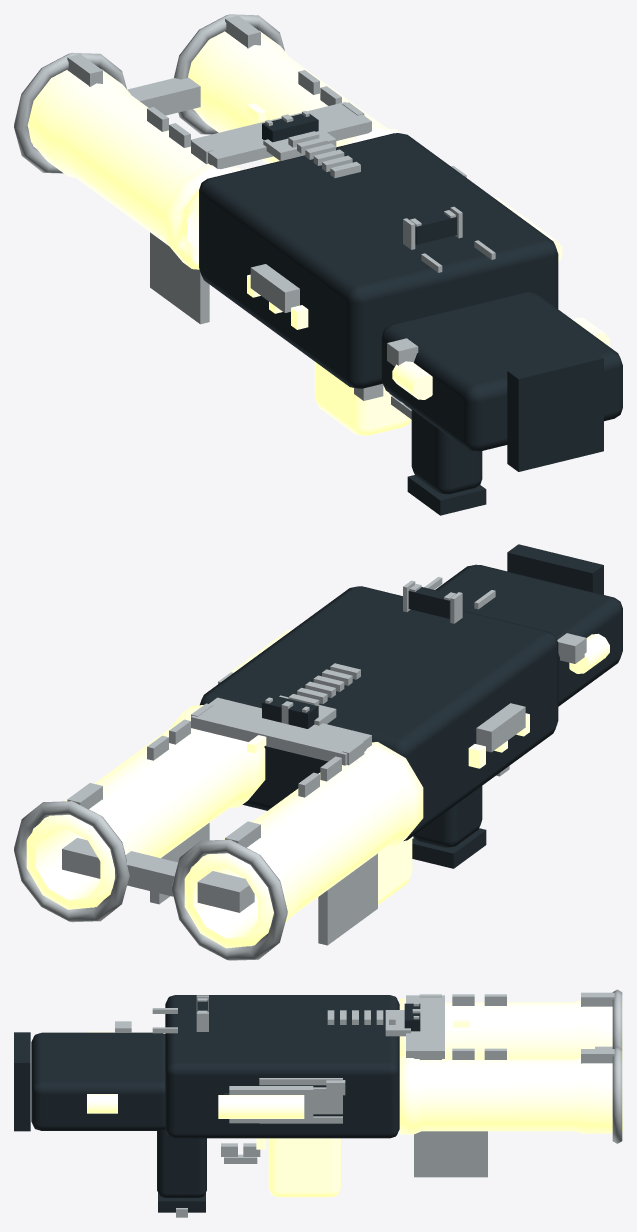
The model's file is weapon-3.glb.
3 views of the same model, one above another, from view 1: azimuth 30°, elevation 25°; view 2: azimuth 150°, elevation 25°; view 3: azimuth 270°, elevation 25° (orthographic). The views are drawn at different scales.
Visible parts, largest first — view 1: WorldBatch0, WorldBatch1, WorldBatch2; view 2: WorldBatch0, WorldBatch1, WorldBatch2; view 3: WorldBatch0, WorldBatch1, WorldBatch2.
Part boxes in pixels (x1,y1,x2,y2): WorldBatch0: (199,114,622,515); WorldBatch1: (27,31,609,435); WorldBatch2: (14,14,495,419); WorldBatch0: (200,544,622,868); WorldBatch1: (26,629,609,948); WorldBatch2: (14,577,586,960); WorldBatch0: (14,995,420,1212); WorldBatch1: (87,998,622,1197); WorldBatch2: (115,989,622,1217).
Bounding box in the file's own units: 0.4209 × 0.402 × 1.09.
